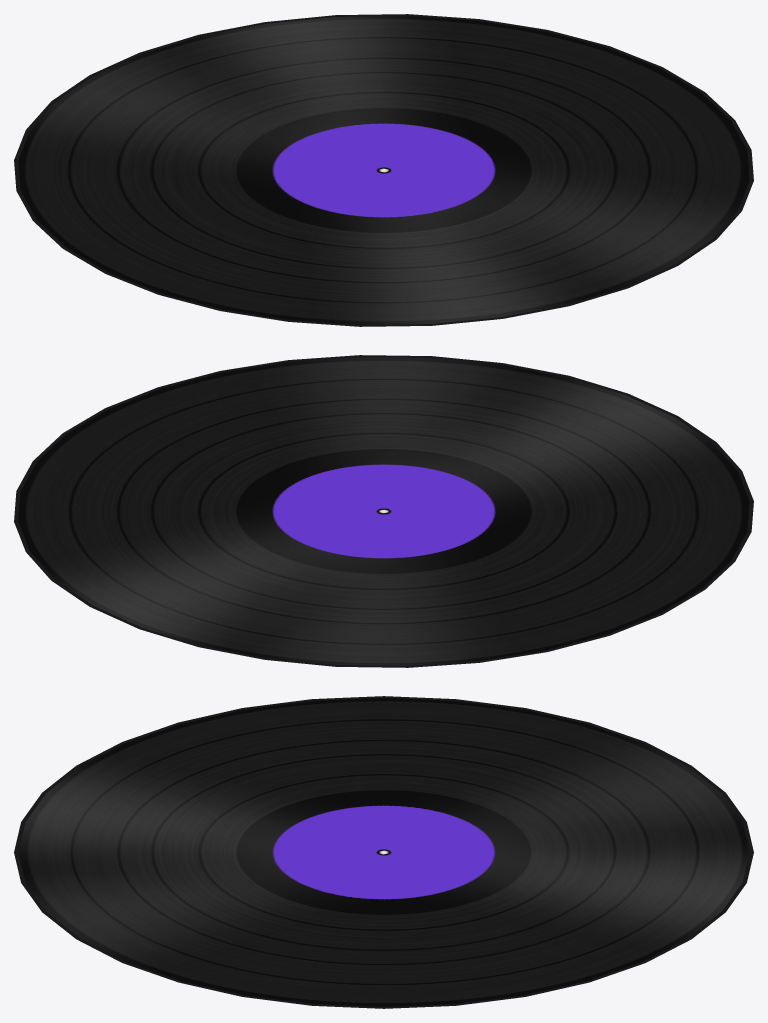
Rendered from disk2.glb.
The picture shows the model from 3 angles, top to bottom: view 1: azimuth 30°, elevation 25°; view 2: azimuth 150°, elevation 25°; view 3: azimuth 270°, elevation 25°; orthographic projection.
Parts seen in each view (by area): view 1: Cylinder.002; view 2: Cylinder.002; view 3: Cylinder.002.
Boxes of the visible parts, x1,y1,x2,y2 form: Cylinder.002: (14, 14, 753, 326); Cylinder.002: (14, 355, 753, 667); Cylinder.002: (14, 696, 753, 1008).
Bounding box in the file's own units: 1.64 × 0 × 1.64.
Materials: 2 (1 with a texture image).
